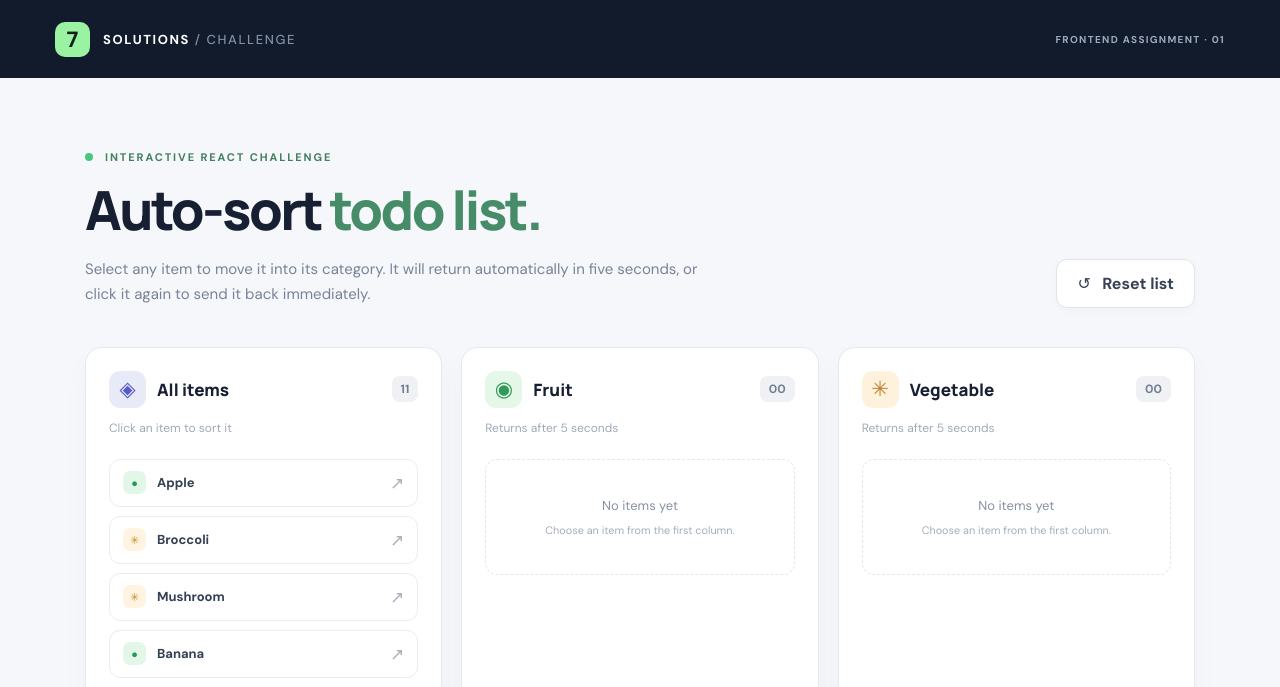
Scenario: Auto Delete Todo › resets all timers and items
Click the button with aria-label "Banana: move to Fruit" at (181, 654), box [109, 630, 418, 678]
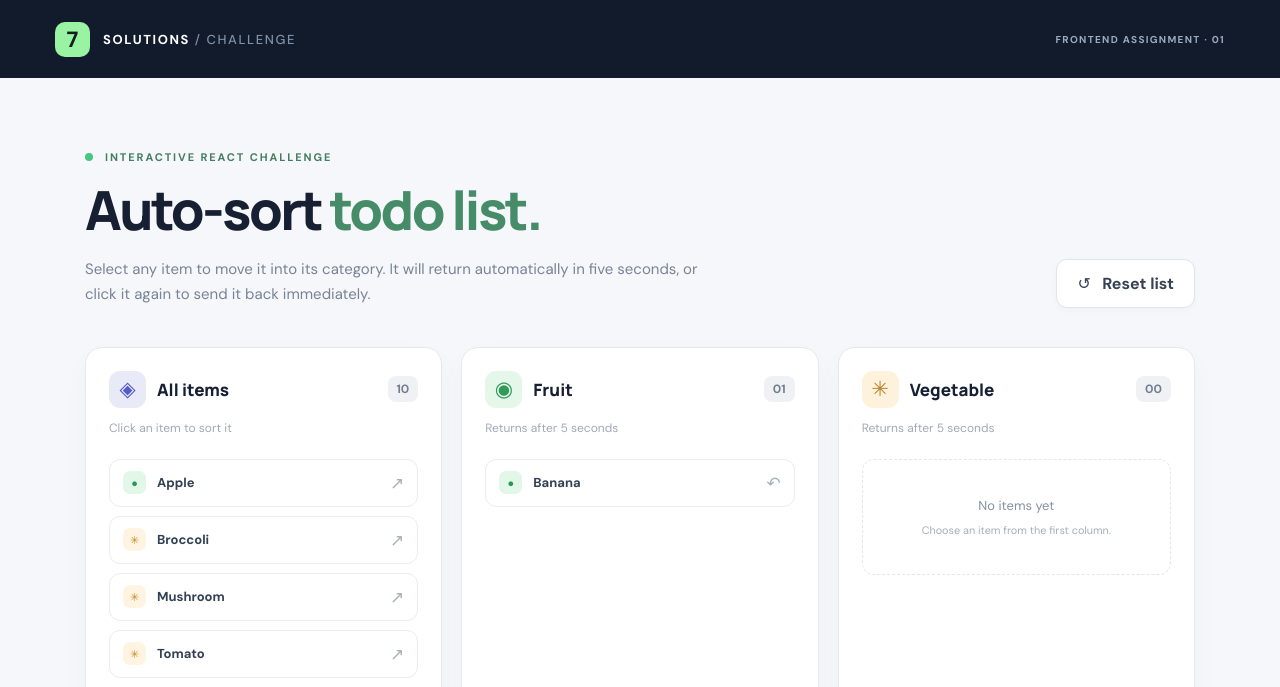
Click the button "↺ Reset list" at (1126, 283), box [1056, 259, 1195, 308]
Wait 5000 ms
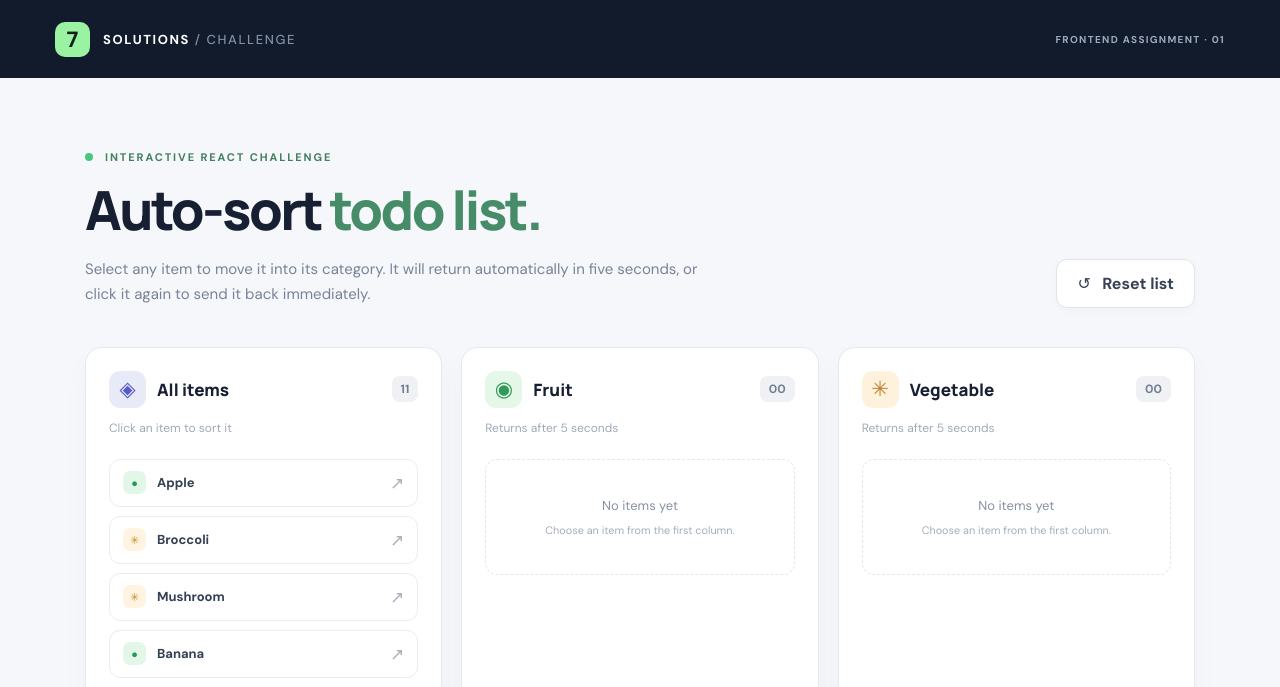
Expected: the button with aria-label "Banana: move to Fruit" is shown, [109, 630, 418, 678]
